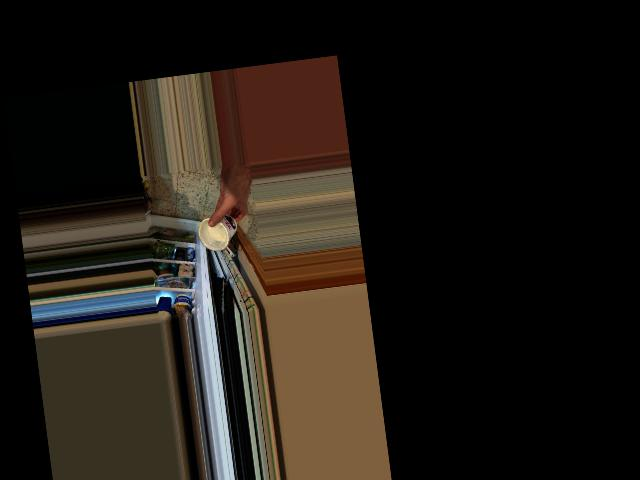cotage: (200, 210, 241, 251)
